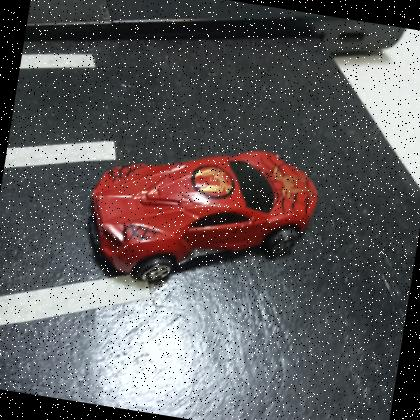Car: (89, 152, 319, 289)
